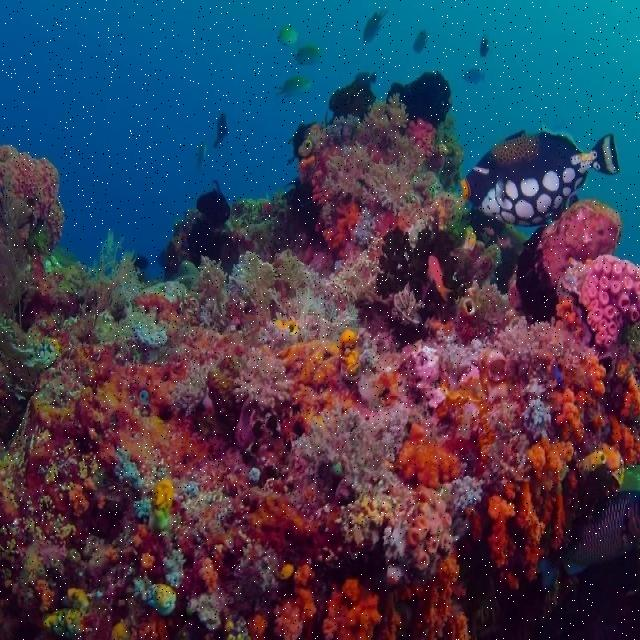fish: (461, 129, 619, 229), (537, 486, 638, 595), (362, 11, 388, 43), (275, 76, 311, 97), (214, 114, 229, 148), (293, 44, 318, 63), (353, 70, 376, 88), (279, 27, 297, 45), (195, 140, 206, 168), (463, 69, 484, 83), (414, 30, 427, 51), (479, 38, 489, 56)
reefs: (0, 77, 639, 639)
